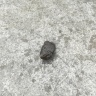Dog: (41, 41, 55, 57)
